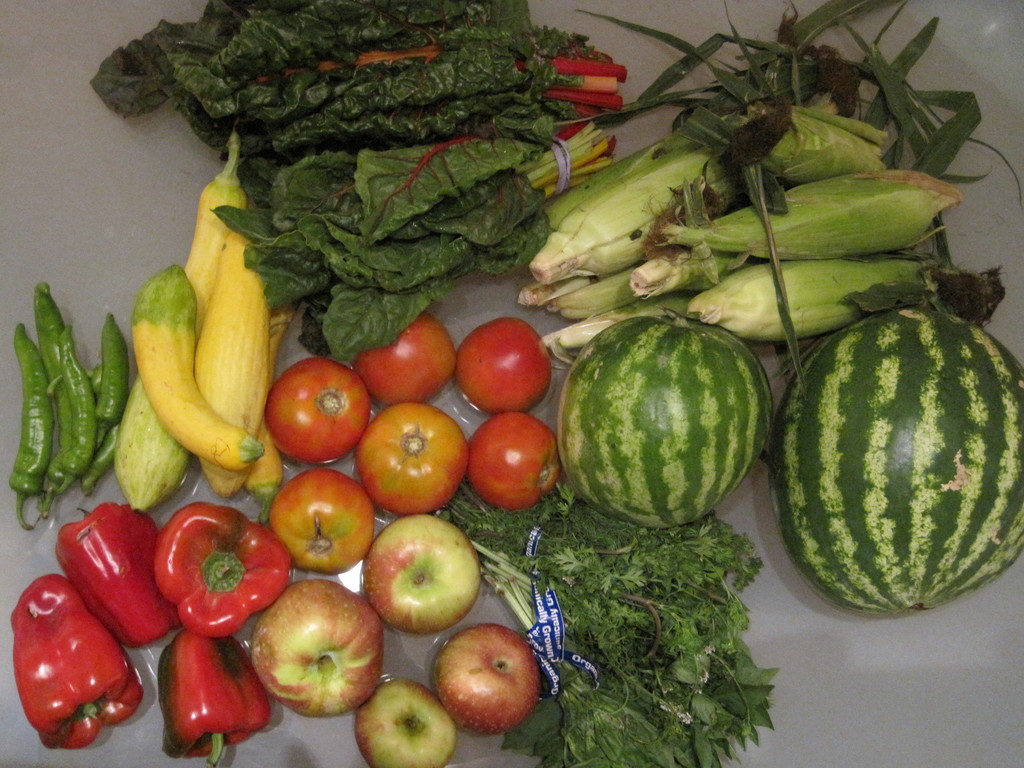Apple: (248, 581, 381, 720), (355, 527, 485, 645), (432, 622, 541, 737), (354, 683, 459, 767)
